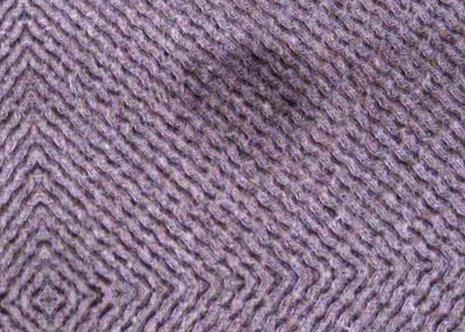stain: (177, 36, 328, 148)
